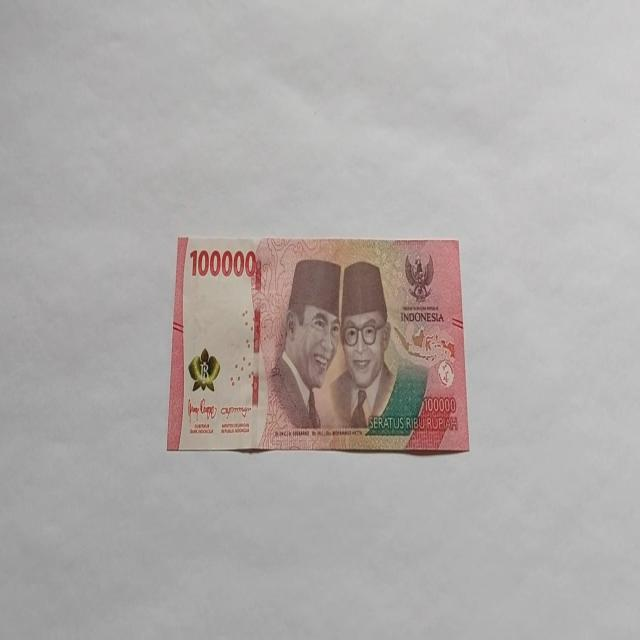seratus ribu rupiah: (166, 234, 470, 456)
